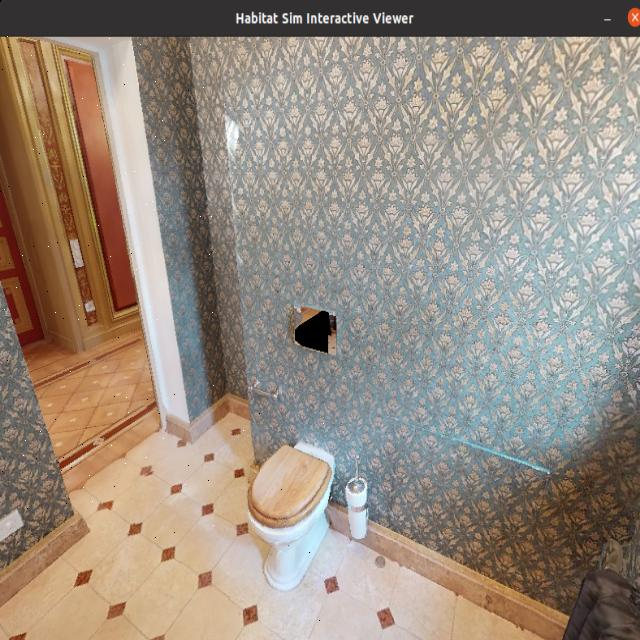door-frame: (0, 34, 214, 540)
toilet: (240, 406, 349, 626)
